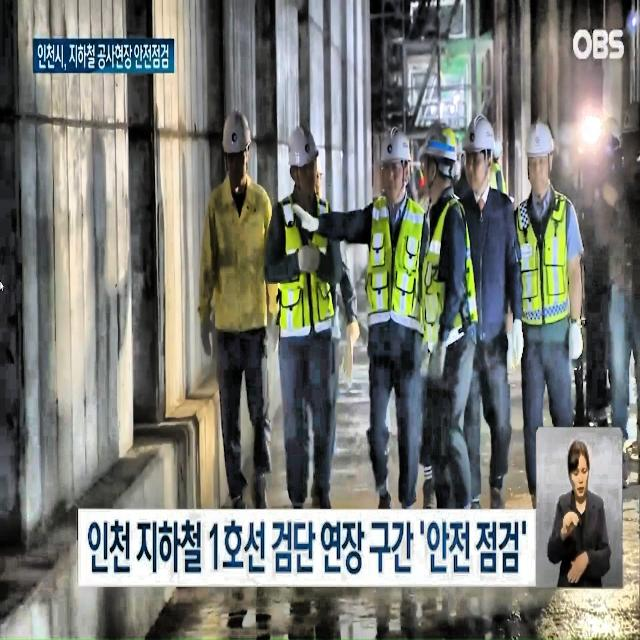safety_helmet: (418, 123, 471, 193), (377, 129, 428, 198), (518, 114, 572, 178), (212, 96, 258, 164), (467, 101, 514, 162), (289, 125, 331, 182)
safety_jacket: (274, 194, 354, 354), (513, 205, 593, 339), (414, 199, 480, 354), (356, 198, 422, 347)
